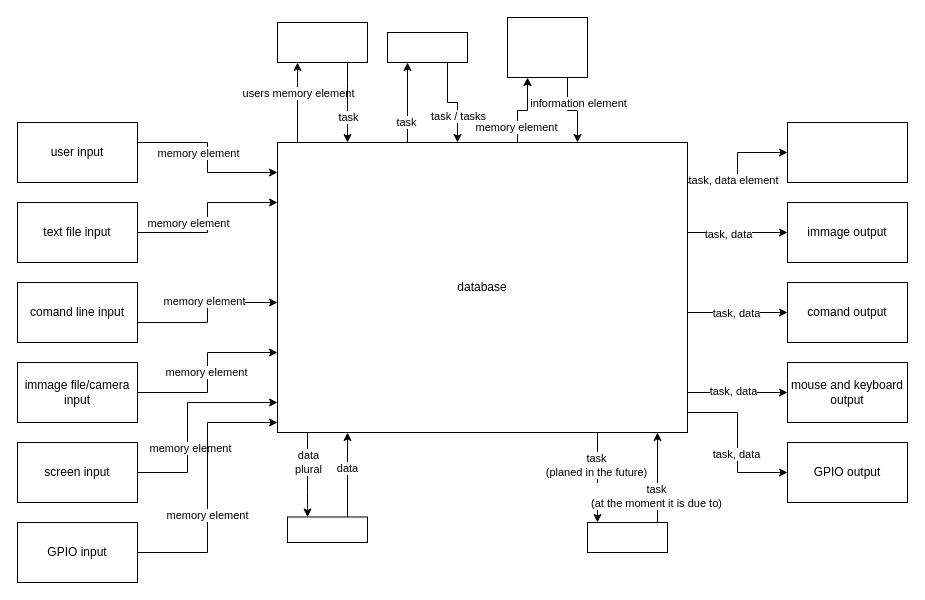
The diagram is 925 pixels wide and 600 high, and some of its shapes have lost their labels. The shapes that lost their labels are listed below. From the top down, each one's centre as x and y in pixels, then its label:
At [322,42]: "memory to task converter".
At [427,47]: "task analiser".
At [547,47]: "memory to data converter".
At [847,152]: "text output".
At [327,529]: "data analyser".
At [627,537]: "scheduler".
